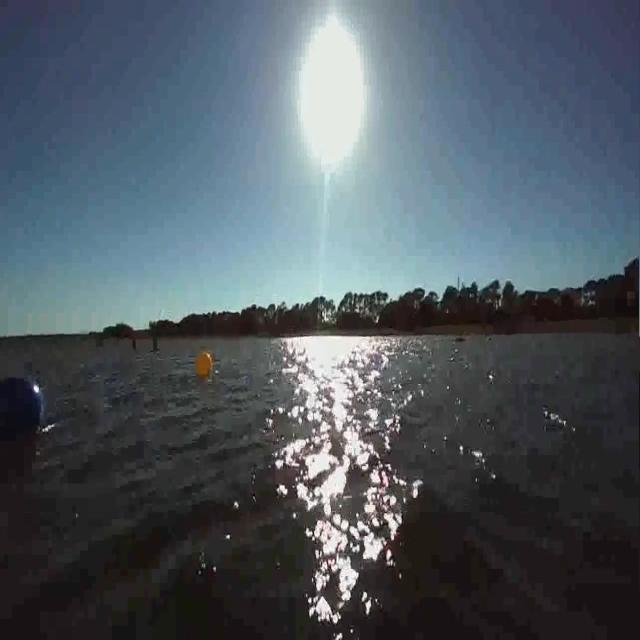blue-buoy: (0, 373, 45, 436)
yellow-buoy: (197, 350, 215, 378)
